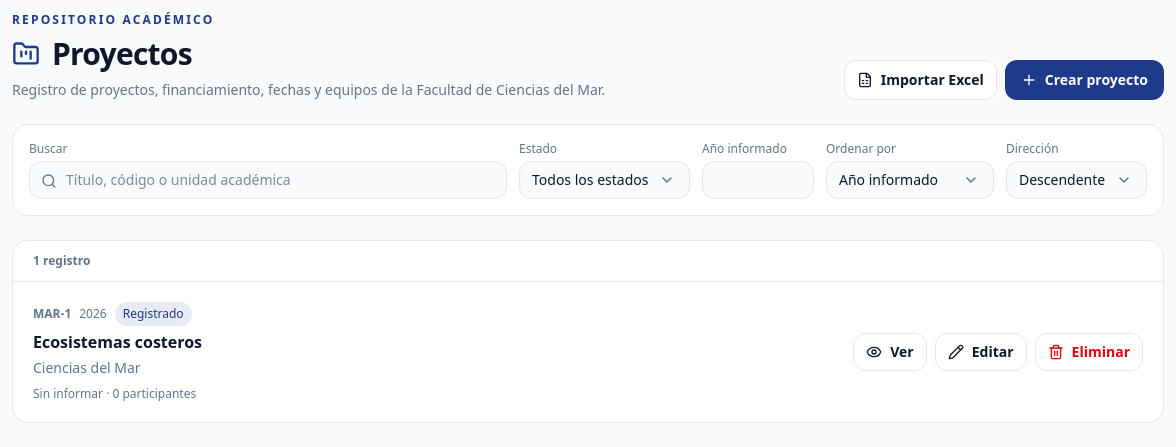
Páginas del repositorio académico › muestra estado vacío y avisa cuando el año informado está incompleto
Expected: the button "Ecosistemas costeros" is shown, [33,330,202,354]
Type "202" into the number field labelled "Año informado".
click(758, 180); type("202")  # box [702,161,814,199]
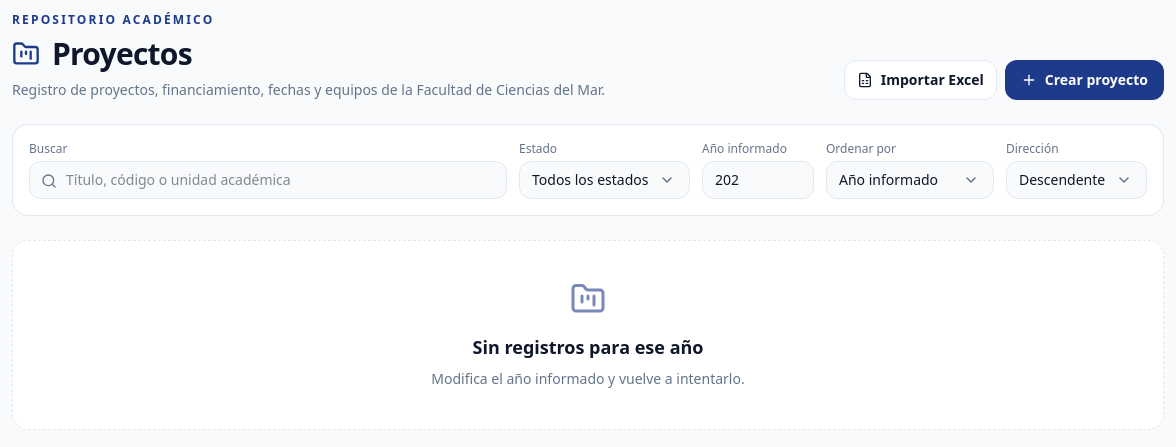
Expected: the heading "Sin registros para ese año" is shown, [472,335,704,359]
